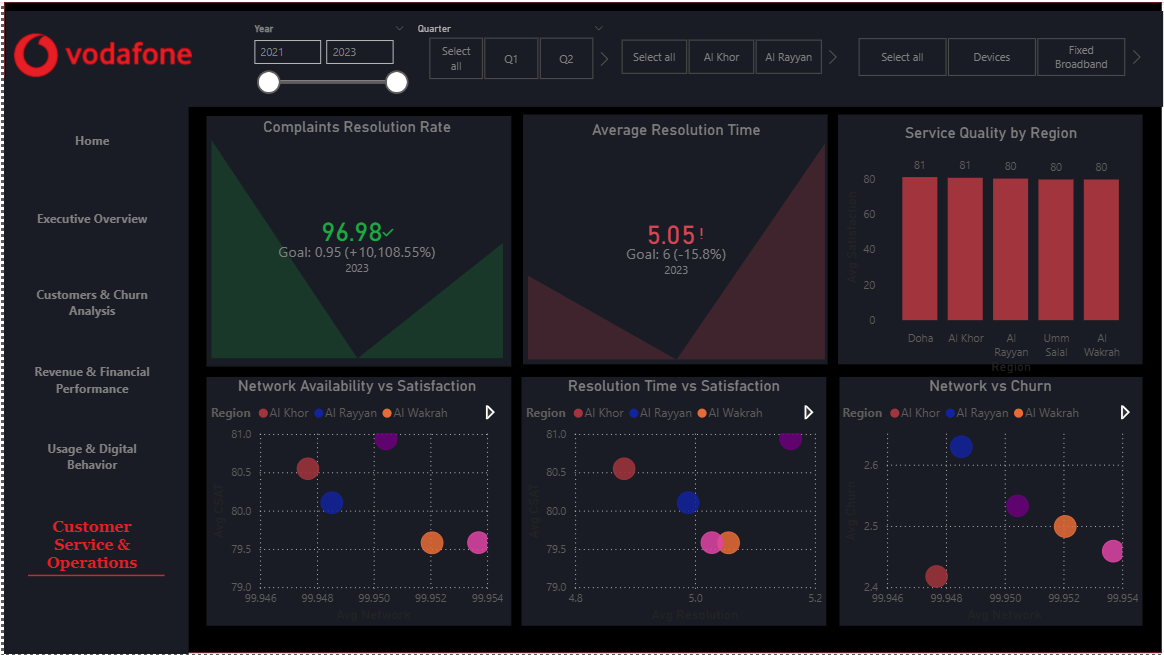

The dashboard page shown, as its layout file describes it:
{"tool":"powerbi","page":{"name":"Customer Service & Operations","canvas":[1280,720],"ordinal":5},"visuals":[{"type":"shape","box":[224.9,275.9,336.4,124.7],"z":0},{"type":"shape","box":[0,0,1278.7,719],"z":1000},{"type":"shape","box":[1.6,10,1278.4,105.9],"z":2000},{"type":"shape","box":[0,82.4,203.9,637.3],"z":3000},{"type":"image","box":[0,0,227.5,119.6],"z":4000},{"type":"shape","box":[223.1,125.5,336.6,276.9],"z":5000},{"type":"shape","box":[573.2,124.6,336.4,275.9],"z":6000},{"type":"shape","box":[920.8,124.6,336.4,275.9],"z":7000},{"type":"shape","box":[223.1,414.3,336.6,274.9],"z":8000},{"type":"shape","box":[922.2,414.3,334.6,274.9],"z":9000},{"type":"kpi","title":"Complaints Resolution Rate","fields":{"TrendLine":["Vodafone qatar dataset.Year"],"Indicator":["Vodafone qatar dataset.Avg Resolution Rate"],"Goal":["Vodafone qatar dataset.Target Resolution"]},"box":[223.1,127.5,332.6,270.9],"z":10000},{"type":"kpi","title":"Average Resolution Time","fields":{"Indicator":["Vodafone qatar dataset.Avg Resolution"],"TrendLine":["Vodafone qatar dataset.Year"],"Goal":["Vodafone qatar dataset.Target Resolution Time"]},"box":[573.6,131.5,338.6,268.9],"z":11000},{"type":"pageNavigator","box":[25.9,133.4,151.4,501.9],"z":13000},{"type":"slicer","fields":{"Values":["Vodafone qatar dataset.Year"]},"box":[262.7,18.9,190.9,85],"z":14000},{"type":"slicer","fields":{"Values":["Vodafone qatar dataset.Quarter"]},"box":[444.1,18.9,230.6,73.7],"z":15000},{"type":"slicer","fields":{"Values":["Vodafone qatar dataset.Region"]},"box":[661.4,39.7,260.8,41.6],"z":16000},{"type":"slicer","fields":{"Values":["Vodafone qatar dataset.Segment"]},"box":[922.2,37.8,334.5,43.5],"z":17000},{"type":"clusteredColumnChart","title":"Service Quality by Region","fields":{"Category":["Vodafone qatar dataset.Region"],"Y":["Vodafone qatar dataset.Avg Satisfaction"]},"box":[922.2,133.4,334.6,280.8],"z":18000},{"type":"scatterChart","title":"Network Availability vs Satisfaction","fields":{"X":["Vodafone qatar dataset.Avg Network"],"Y":["Vodafone qatar dataset.Avg CSAT"],"Size":["Sum(Vodafone qatar dataset.Subscribers)"],"Series":["Vodafone qatar dataset.Region"]},"box":[223.1,414.3,332.6,274.9],"z":19000},{"type":"scatterChart","title":"Network vs Churn","fields":{"X":["Vodafone qatar dataset.Avg Network"],"Y":["Vodafone qatar dataset.Avg Churn"],"Size":["Sum(Vodafone qatar dataset.Subscribers)"],"Series":["Vodafone qatar dataset.Region"]},"box":[920.2,414.3,336.6,274.9],"z":20000},{"type":"shape","box":[571.6,414.3,336.6,274.9],"z":21000},{"type":"scatterChart","title":"Resolution Time vs Satisfaction","fields":{"X":["Vodafone qatar dataset.Avg Resolution"],"Y":["Vodafone qatar dataset.Avg CSAT"],"Series":["Vodafone qatar dataset.Region"],"Size":["Sum(Vodafone qatar dataset.Subscribers)"]},"box":[571.6,414.3,336.6,274.9],"z":21500}]}

Visuals, with their boxes in screenshot pixels (x1, y1, x2, y2), scaled from the page's 1280x720 canvas onto the 1164x655 screenshot:
shape: 205/251/510/364
shape: 0/0/1163/654
shape: 1/9/1163/105
shape: 0/75/185/654
image: 0/0/207/109
shape: 203/114/509/366
shape: 521/113/827/364
shape: 837/113/1143/364
shape: 203/377/509/627
shape: 839/377/1143/627
"Complaints Resolution Rate" kpi: 203/116/505/362
"Average Resolution Time" kpi: 522/120/830/364
pageNavigator: 24/121/161/578
slicer - Vodafone qatar dataset.Year: 239/17/412/95
slicer - Vodafone qatar dataset.Quarter: 404/17/614/84
slicer - Vodafone qatar dataset.Region: 601/36/839/74
slicer - Vodafone qatar dataset.Segment: 839/34/1143/74
"Service Quality by Region" clusteredColumnChart: 839/121/1143/377
"Network Availability vs Satisfaction" scatterChart: 203/377/505/627
"Network vs Churn" scatterChart: 837/377/1143/627
shape: 520/377/826/627
"Resolution Time vs Satisfaction" scatterChart: 520/377/826/627
